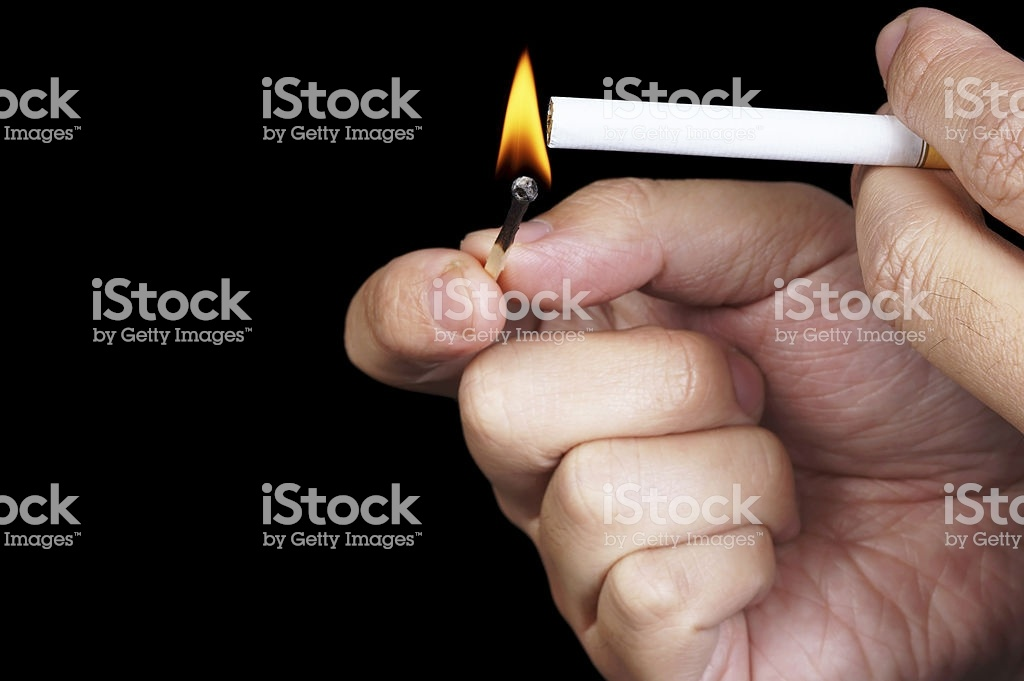sigaretta: (533, 83, 961, 158)
